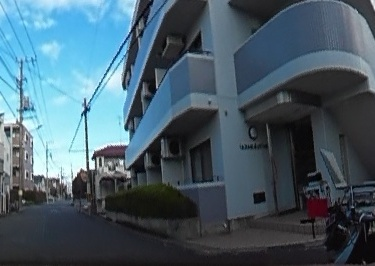person: (361, 95, 375, 266)
